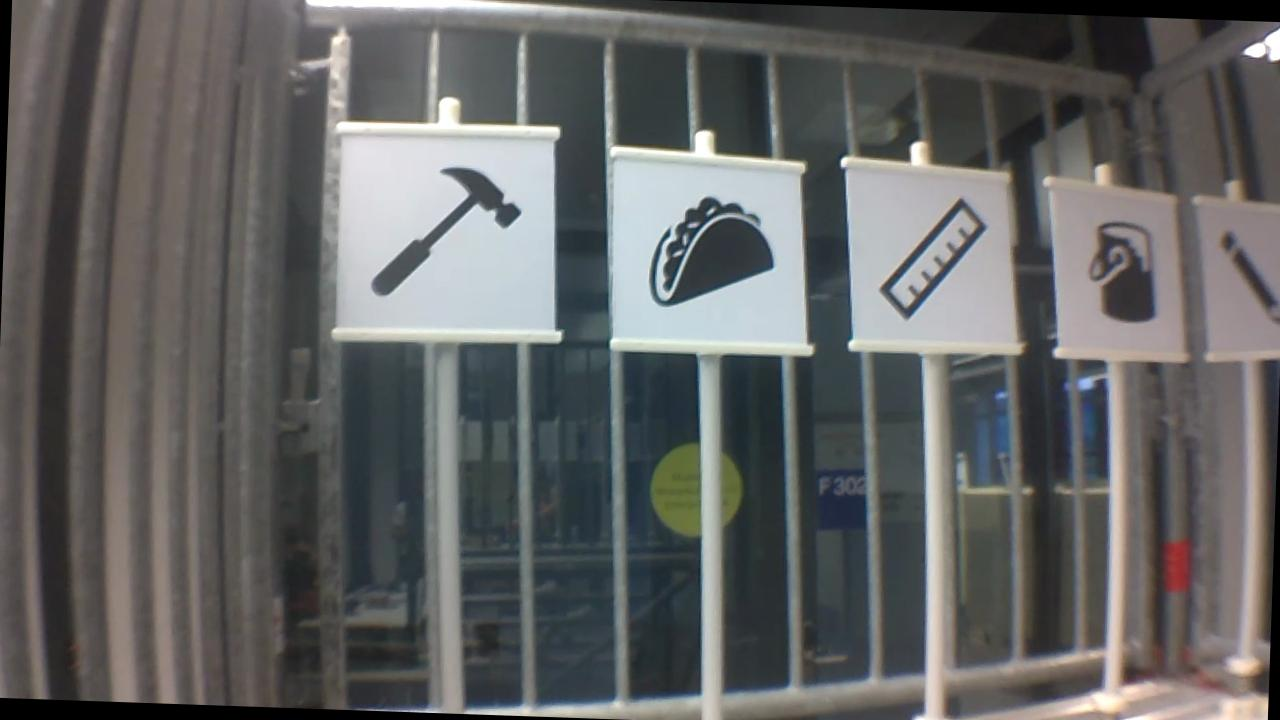bucket: (1079, 213, 1163, 328)
hammer: (363, 157, 529, 305)
pencil: (1205, 221, 1280, 331)
ruler: (873, 190, 995, 329)
taco: (641, 188, 780, 312)
